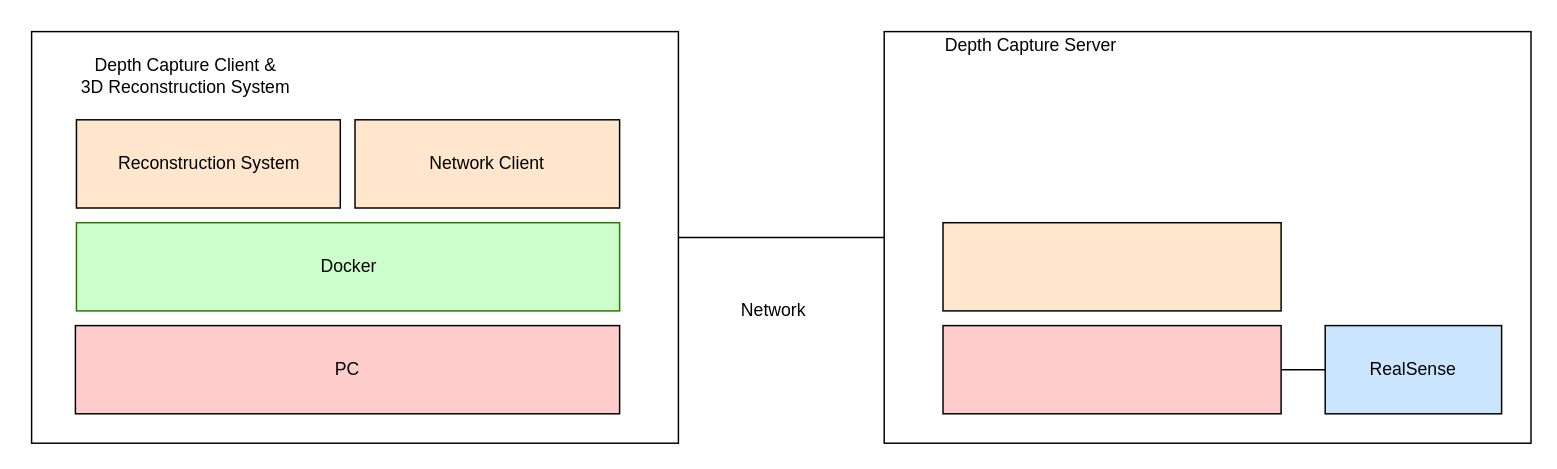
Image size: 1557x469. Some labels were removed from this diagram. Here are the shapes that lost their labels. From the top down, the centre of each, then its label:
(1111,266): Cature Application / Network Server
(1111,369): Raspberry Pi
